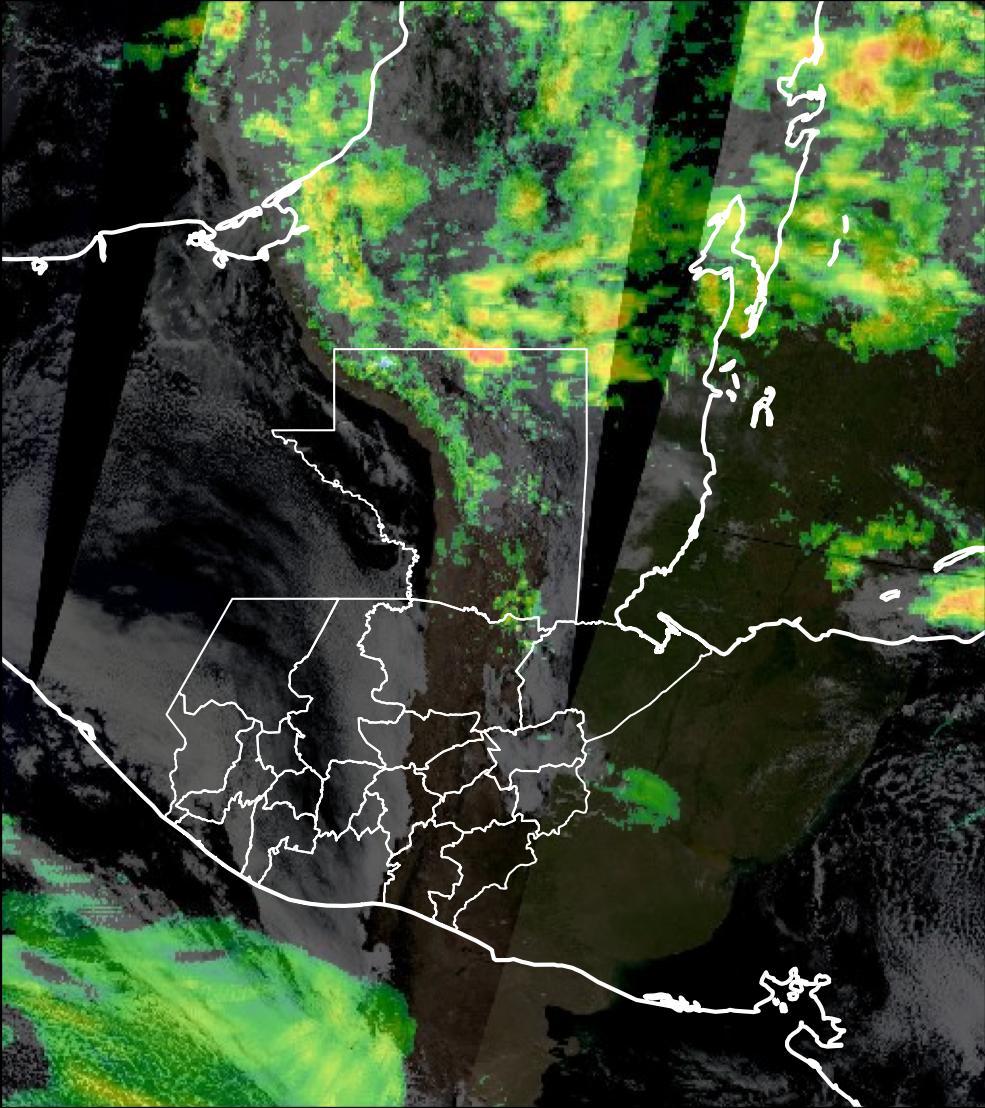precipitacion: (841, 28, 959, 122)
